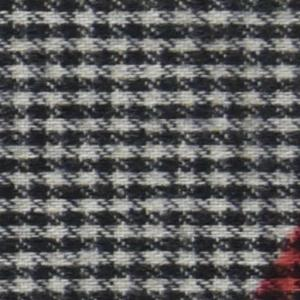Stain: (254, 223, 300, 300)
